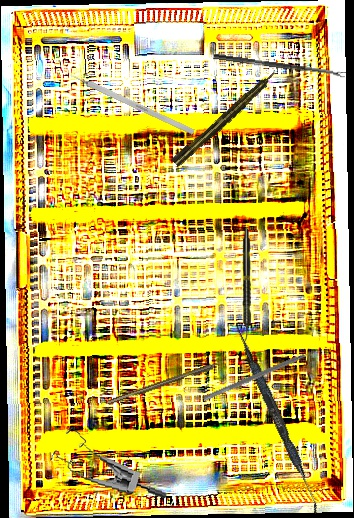Handpiece: (170, 66, 281, 169), (242, 229, 251, 341)
Hook Surgical: (62, 69, 195, 135), (106, 357, 232, 406)
Spatula Surgical: (228, 322, 326, 514), (202, 344, 325, 407)
Speculum: (46, 424, 175, 501)
Surgical Spoon: (213, 53, 346, 79)
